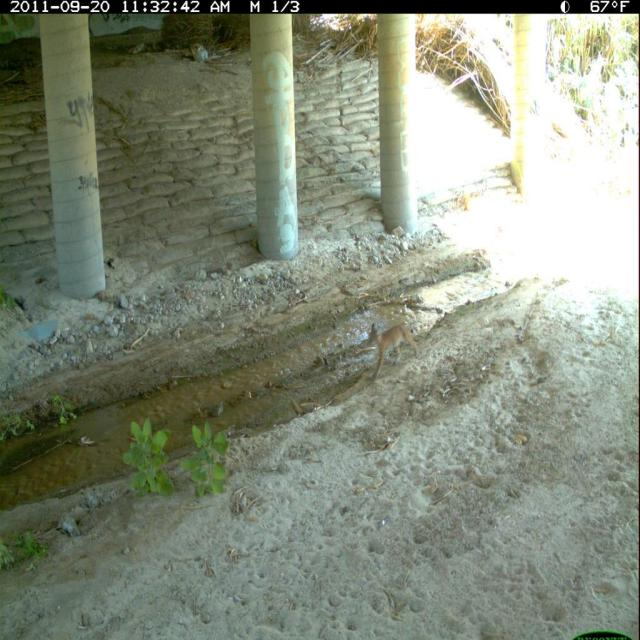bobcat: (365, 318, 423, 390)
